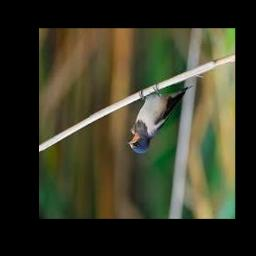Swallow: (125, 84, 192, 153)
